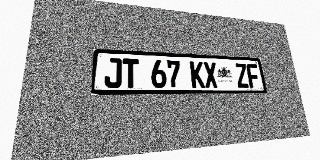6: (151, 60, 167, 88)
7: (166, 60, 182, 88)
F: (246, 64, 261, 88)
J: (104, 58, 122, 88)
K: (190, 61, 205, 88)
T: (122, 58, 139, 88)
X: (203, 62, 218, 88)
Z: (234, 63, 249, 88)
